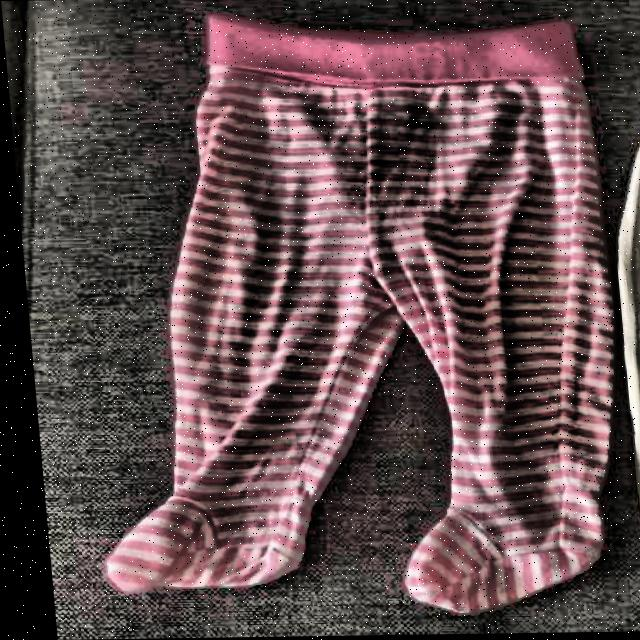clothes: (53, 8, 640, 616)
